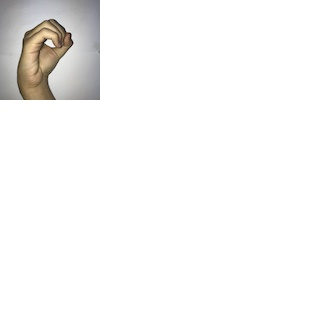rock: (11, 16, 75, 89)
